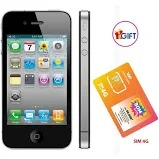iphone: (1, 10, 74, 152)
iphone4: (1, 10, 74, 152)
